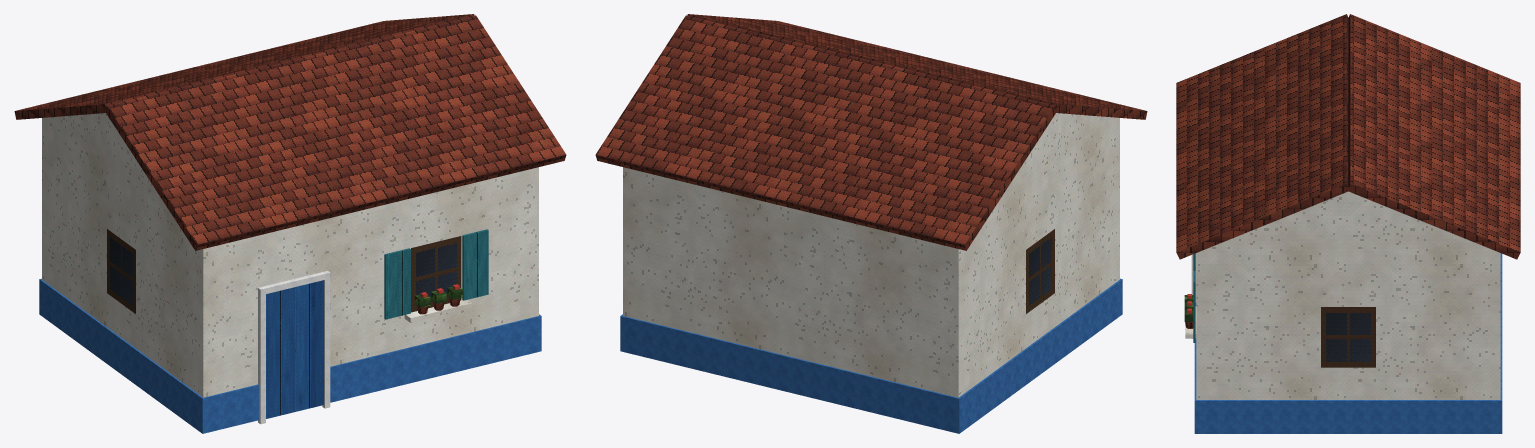
File: casa_blanca.obj
3 views of the same model, side by side, from view 1: azimuth 30°, elevation 25°; view 2: azimuth 150°, elevation 25°; view 3: azimuth 270°, elevation 25° (orthographic). The views are drawn at different scales.
Parts seen in each view (by area): view 1: casa_blanca; view 2: casa_blanca; view 3: casa_blanca.
Part boxes in pixels (x1,y1,x2,y2): casa_blanca: [14, 14, 566, 433]; casa_blanca: [595, 14, 1147, 433]; casa_blanca: [1176, 14, 1520, 433].
Size of the model in its own units: 6.6 by 4.71 by 5.66.
Materials: 9 (9 with a texture image).
